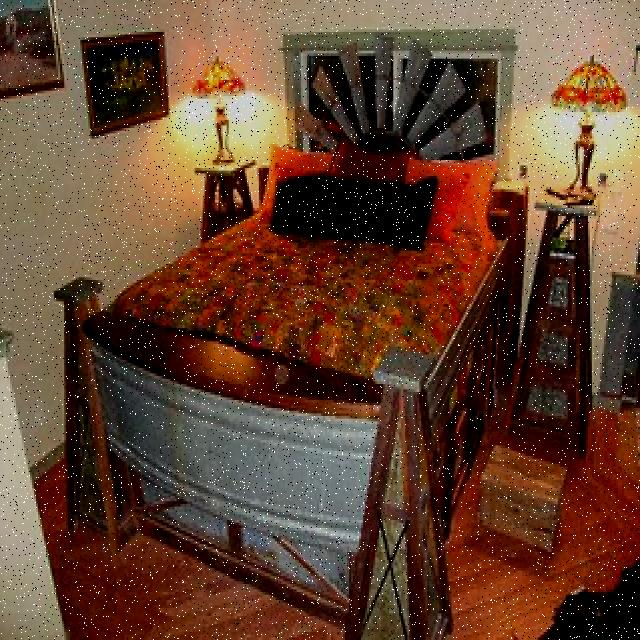bed: (68, 51, 518, 581)
